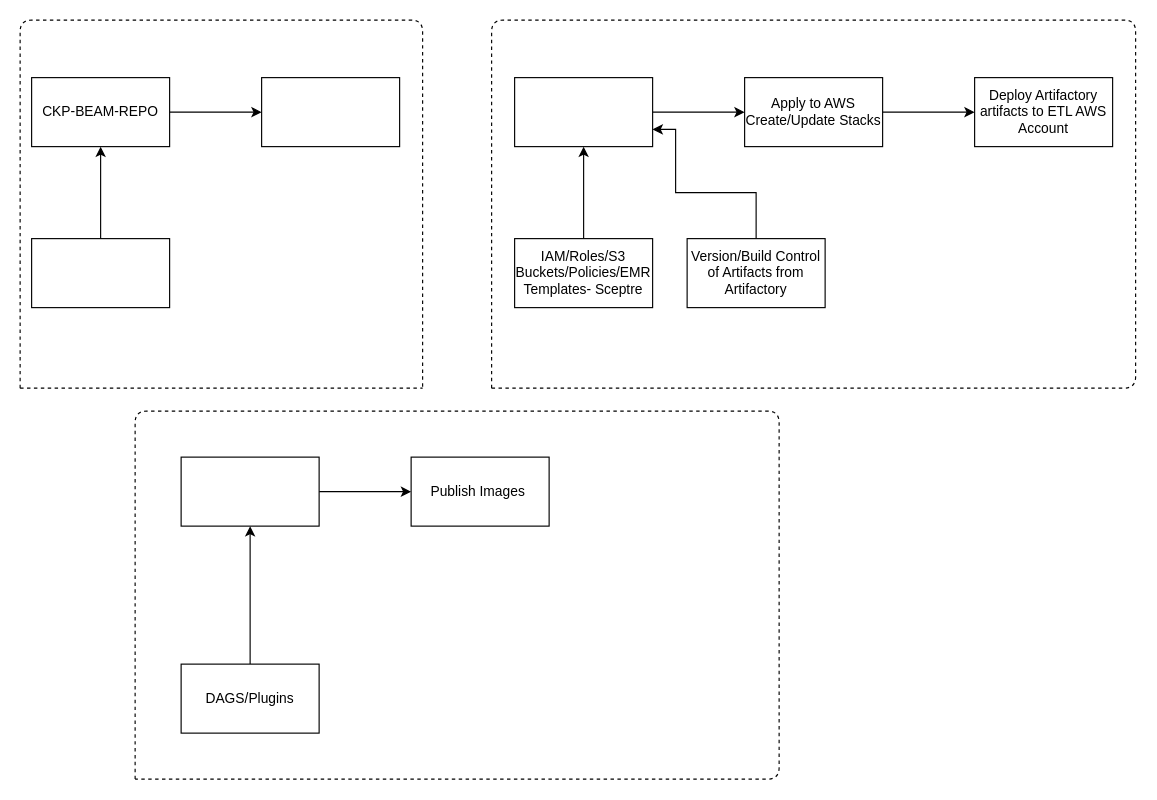
Some shapes in this 1157 by 800 pixel diagram are drawn without their labels. Here are the shapes that lost their labels. From the top down, the centre of each, then its label:
At point (330, 111): "Publish Jar to Artifcatory".
At point (583, 111): "ETL-Deployment-Repo".
At point (100, 272): "HIve /Pig/ Spark Modules".
At point (249, 491): "CKP-AIRFLOW-REPO".
